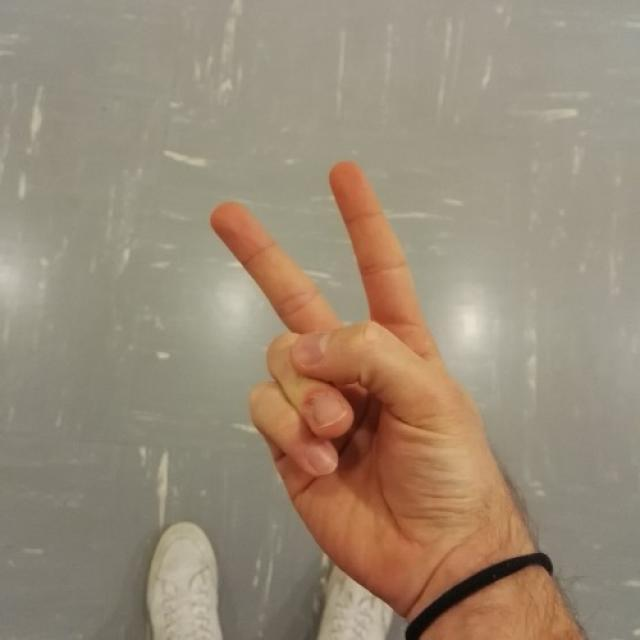scissors: (210, 160, 498, 536)
